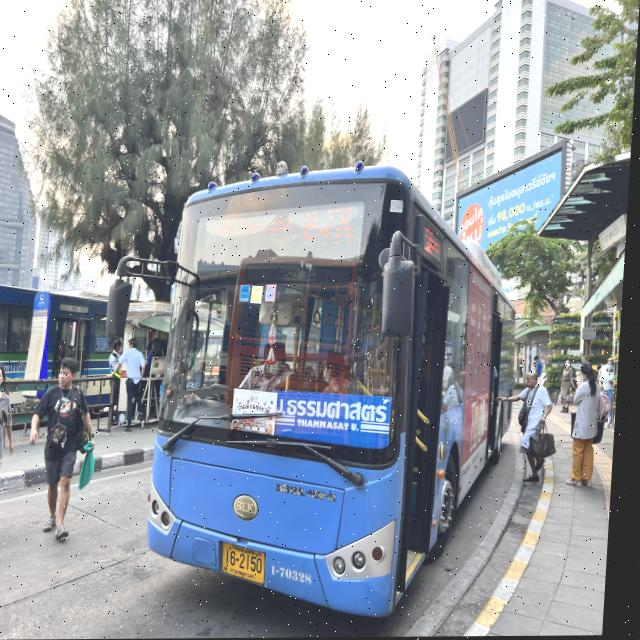BMTA-bus: (146, 165, 519, 623)
Bus-Line-Number: (299, 204, 364, 257)
Destination-Sign-Normal: (271, 386, 399, 459)
